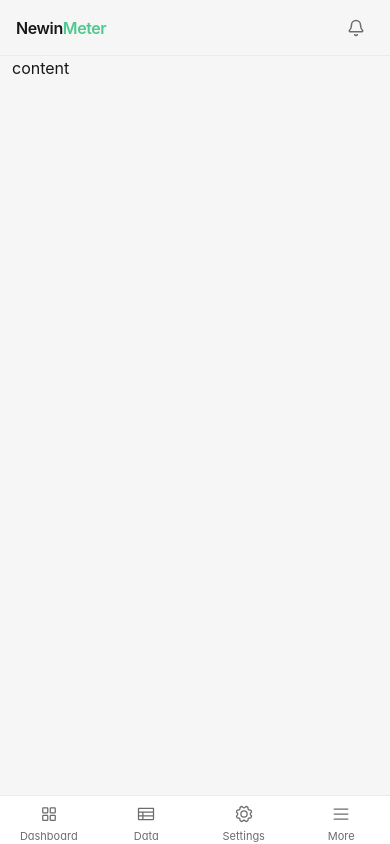
Test case: AppShell viewport-height architecture › mobile menu uses substantial rows and a full-width account row without changing shared sidebar sizing
Click the button with aria-label "Open menu": [341, 820] box 292,796 -> 389,843
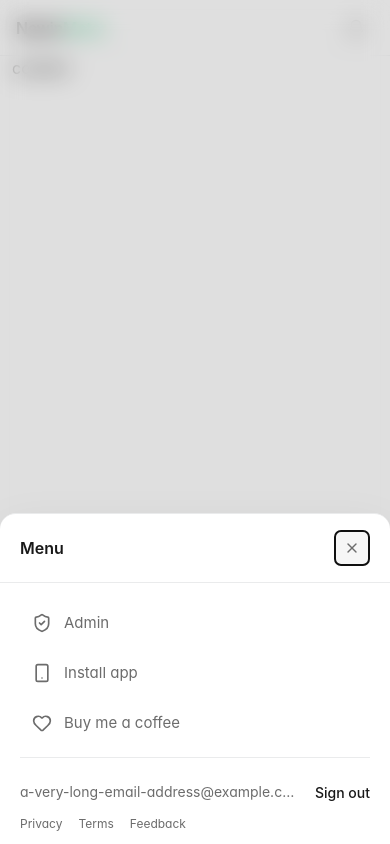
Result: the heading "Menu" is shown at 20,536 -> 64,560
